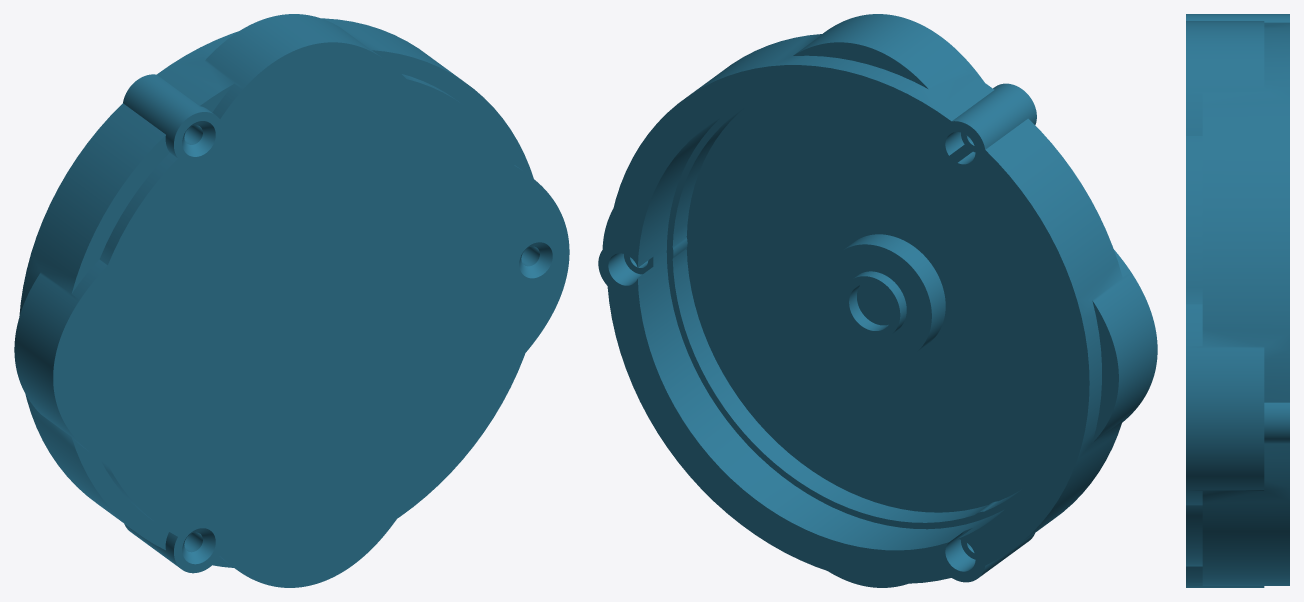
Rendered from Cap_four_leaf_clover.obj.
3 renders of one model, left to right at view 1: azimuth 30°, elevation 25°; view 2: azimuth 150°, elevation 25°; view 3: azimuth 270°, elevation 25°, orthographic.
Parts seen in each view (by area): view 1: Cap_four_leaf_clover; view 2: Cap_four_leaf_clover; view 3: Cap_four_leaf_clover.
Part boxes in pixels (bbox=[...]): Cap_four_leaf_clover: bbox=[14, 14, 569, 587]; Cap_four_leaf_clover: bbox=[598, 14, 1157, 587]; Cap_four_leaf_clover: bbox=[1186, 14, 1289, 587].
Bounding box in the file's own units: 61.6 × 61.6 × 10.6.
